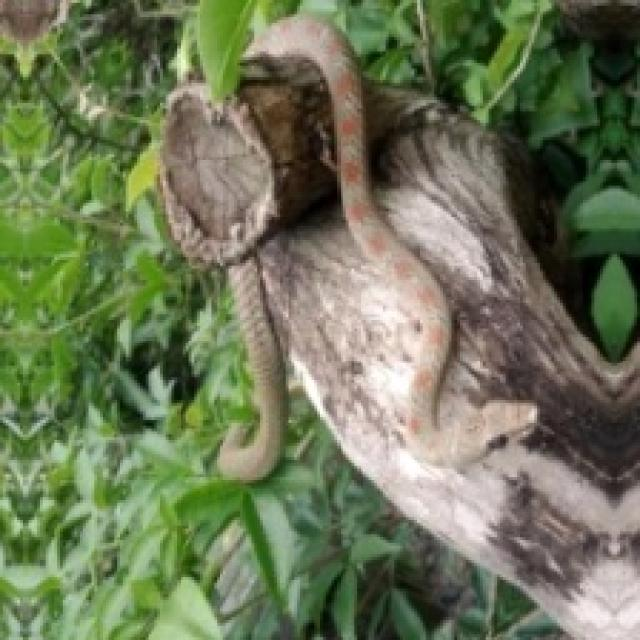paradise tree snake: (160, 17, 637, 637)
